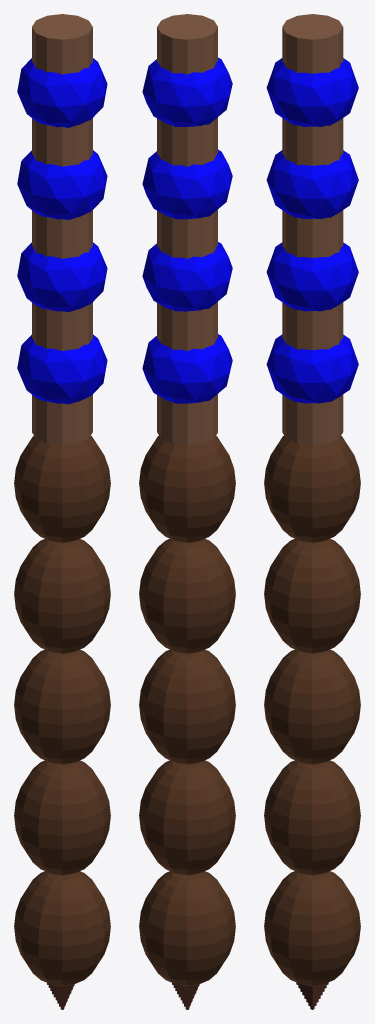
Rendered from Wand 234.glb.
3 renders of one model, left to right at view 1: azimuth 30°, elevation 25°; view 2: azimuth 210°, elevation 25°; view 3: azimuth 270°, elevation 25°, orthographic.
Visible parts, largest first — view 1: GeneratedWand; view 2: GeneratedWand; view 3: GeneratedWand.
Part boxes in pixels (box(x1,y1,x2,y2)): GeneratedWand: box(14, 14, 110, 1009); GeneratedWand: box(139, 14, 235, 1009); GeneratedWand: box(264, 14, 360, 1009).
Size of the model in its own units: 0.0447 by 0.5028 by 0.0449.
